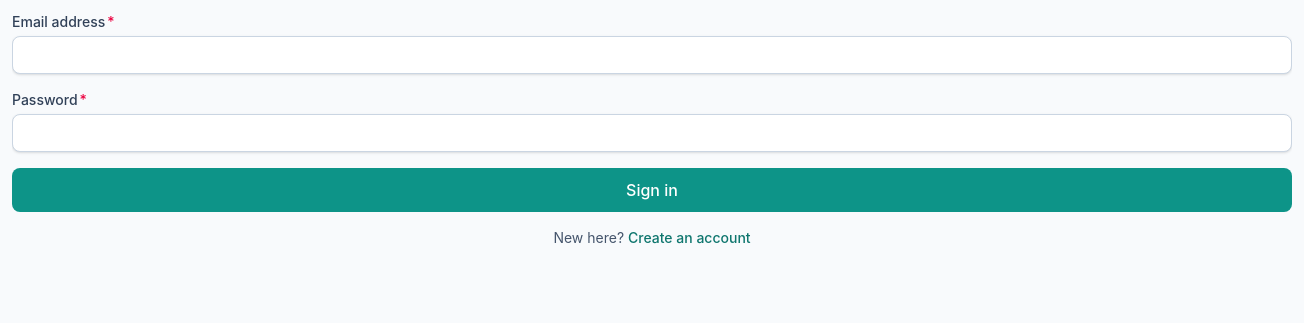
Scenario: LoginForm › shows the server message when the credentials are wrong
Type "asha@example.com" into the field labelled "Email address*" at (652, 55), box [12, 36, 1292, 74]
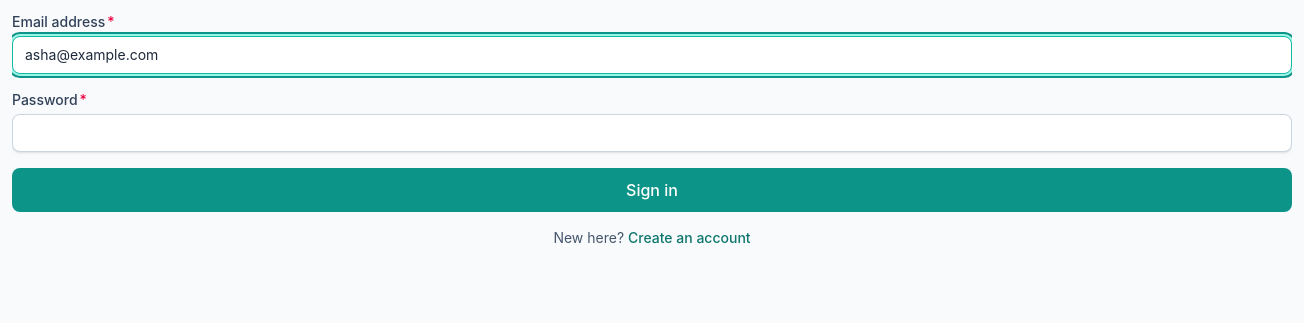
Type "wrong-password-here" into the password field labelled "Password*" at (652, 133), box [12, 114, 1292, 152]
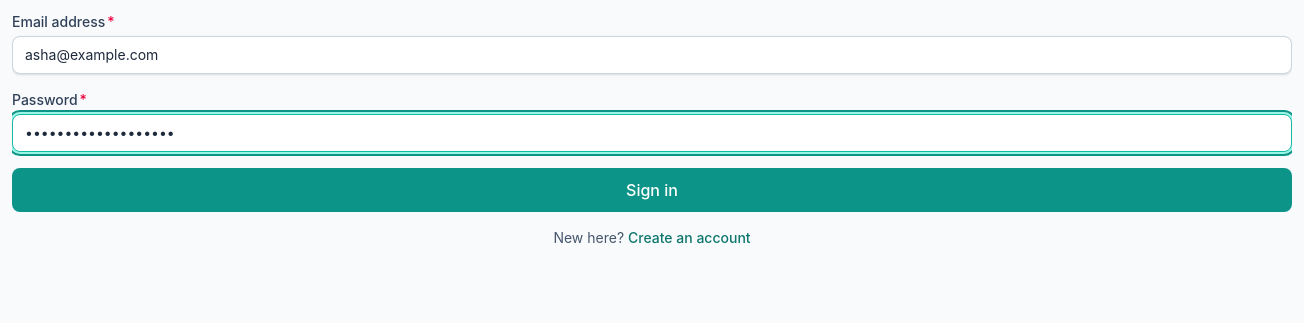
Click the button "Sign in" at (652, 190), box [12, 168, 1292, 212]
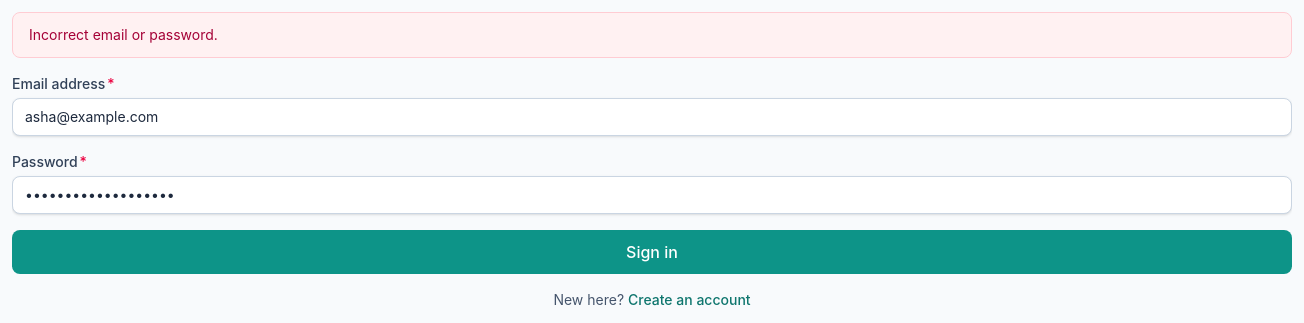
Expected: the message reads "Incorrect email or password.", [29, 26, 218, 43]
